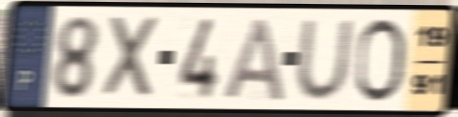4: (175, 14, 222, 103)
8: (51, 13, 101, 102)
A: (220, 15, 288, 103)
O: (351, 15, 407, 105)
U: (293, 17, 357, 103)
X: (101, 13, 164, 102)
